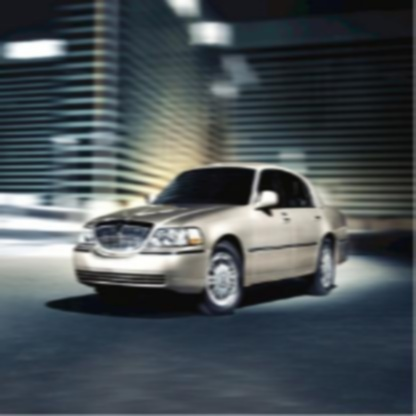Vehicle: (73, 159, 352, 320)
